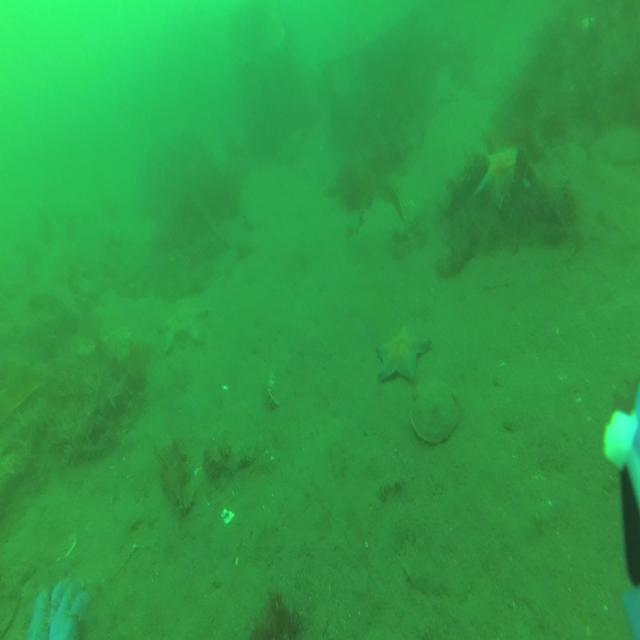scallop: (410, 379, 458, 444)
starfish: (377, 331, 430, 382), (478, 146, 518, 207), (160, 302, 207, 353)
